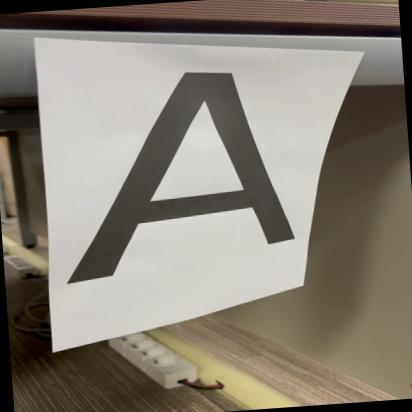seat: (41, 52, 307, 284)
